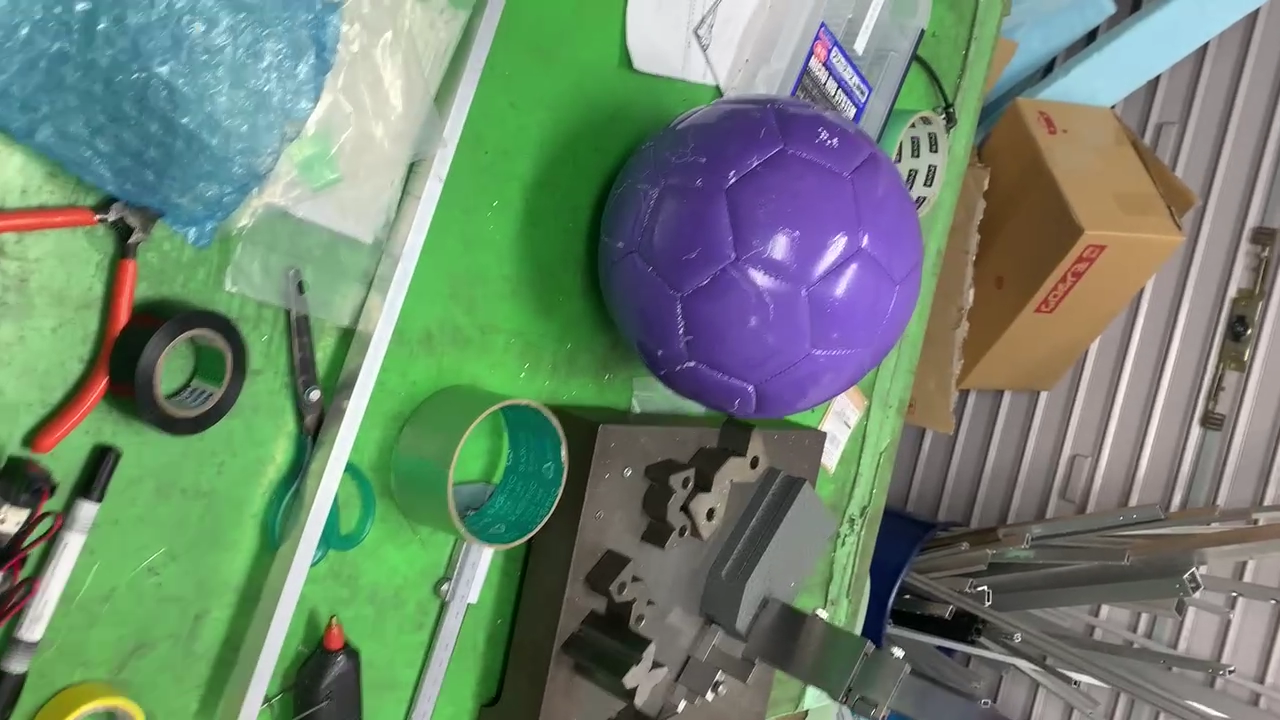purple: (592, 93, 923, 416)
